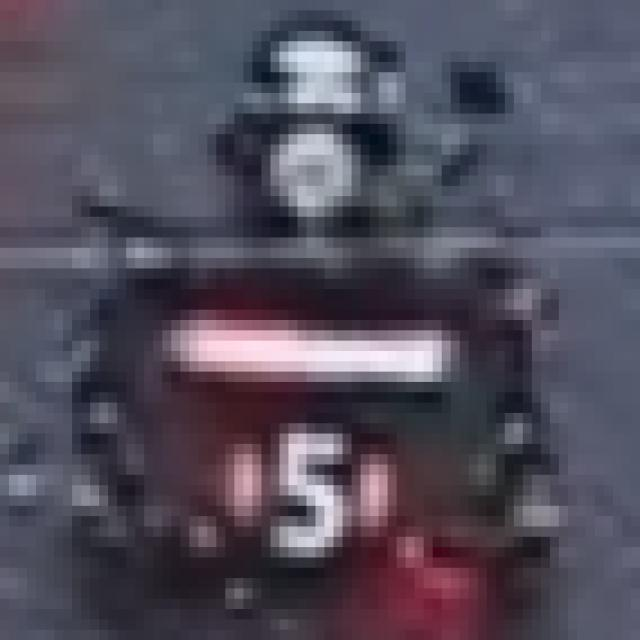R5: (235, 413, 388, 557)
